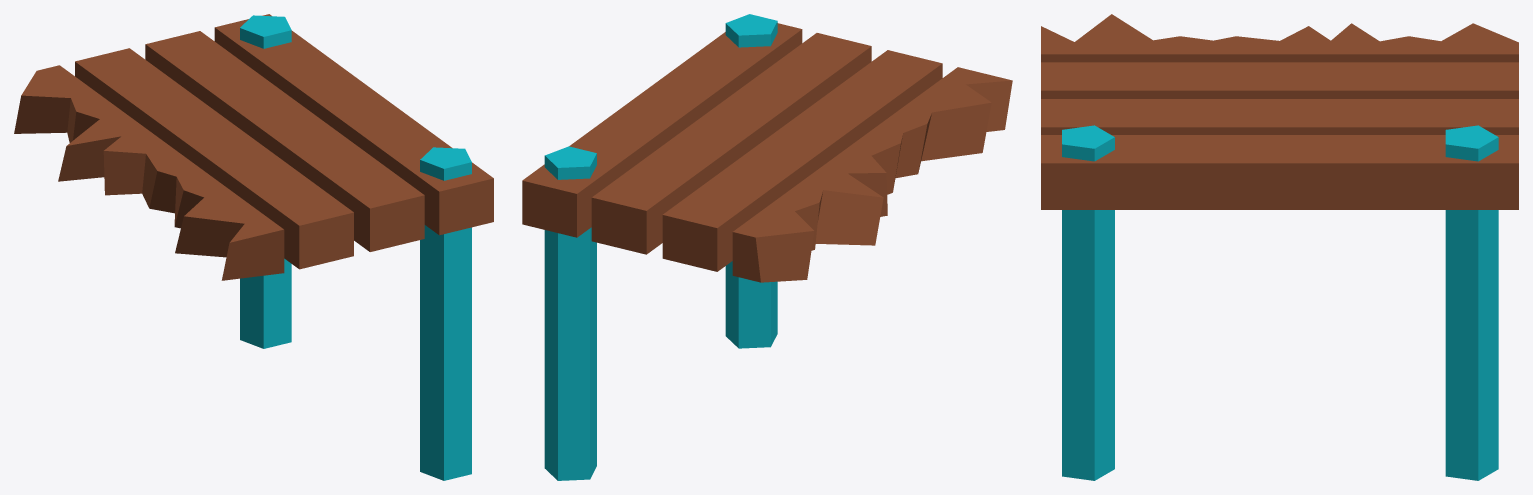
The model's file is brokendeck.fbx.
3 views of the same model, side by side, from view 1: azimuth 30°, elevation 25°; view 2: azimuth 150°, elevation 25°; view 3: azimuth 270°, elevation 25° (orthographic). The views are drawn at different scales.
Parts seen in each view (by area): view 1: Cube; view 2: Cube; view 3: Cube.
Part boxes in pixels (<box>): Cube: <box>14,14,493,480</box>; Cube: <box>522,14,1012,480</box>; Cube: <box>1041,14,1518,480</box>.
Size of the model in its own units: 1.45 by 1.53 by 2.
